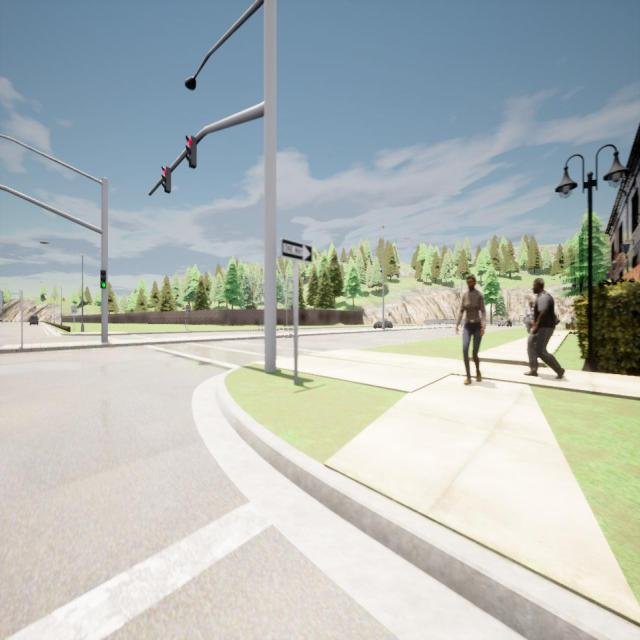Pedestrian: (524, 278, 564, 379), (454, 274, 486, 384)
Traffic_Signs: (280, 238, 313, 262), (71, 305, 77, 314)
Vehicle: (373, 318, 393, 328), (497, 319, 512, 327), (29, 315, 39, 325)
traffic_light: (184, 134, 197, 169), (161, 166, 171, 193), (100, 270, 106, 289)
